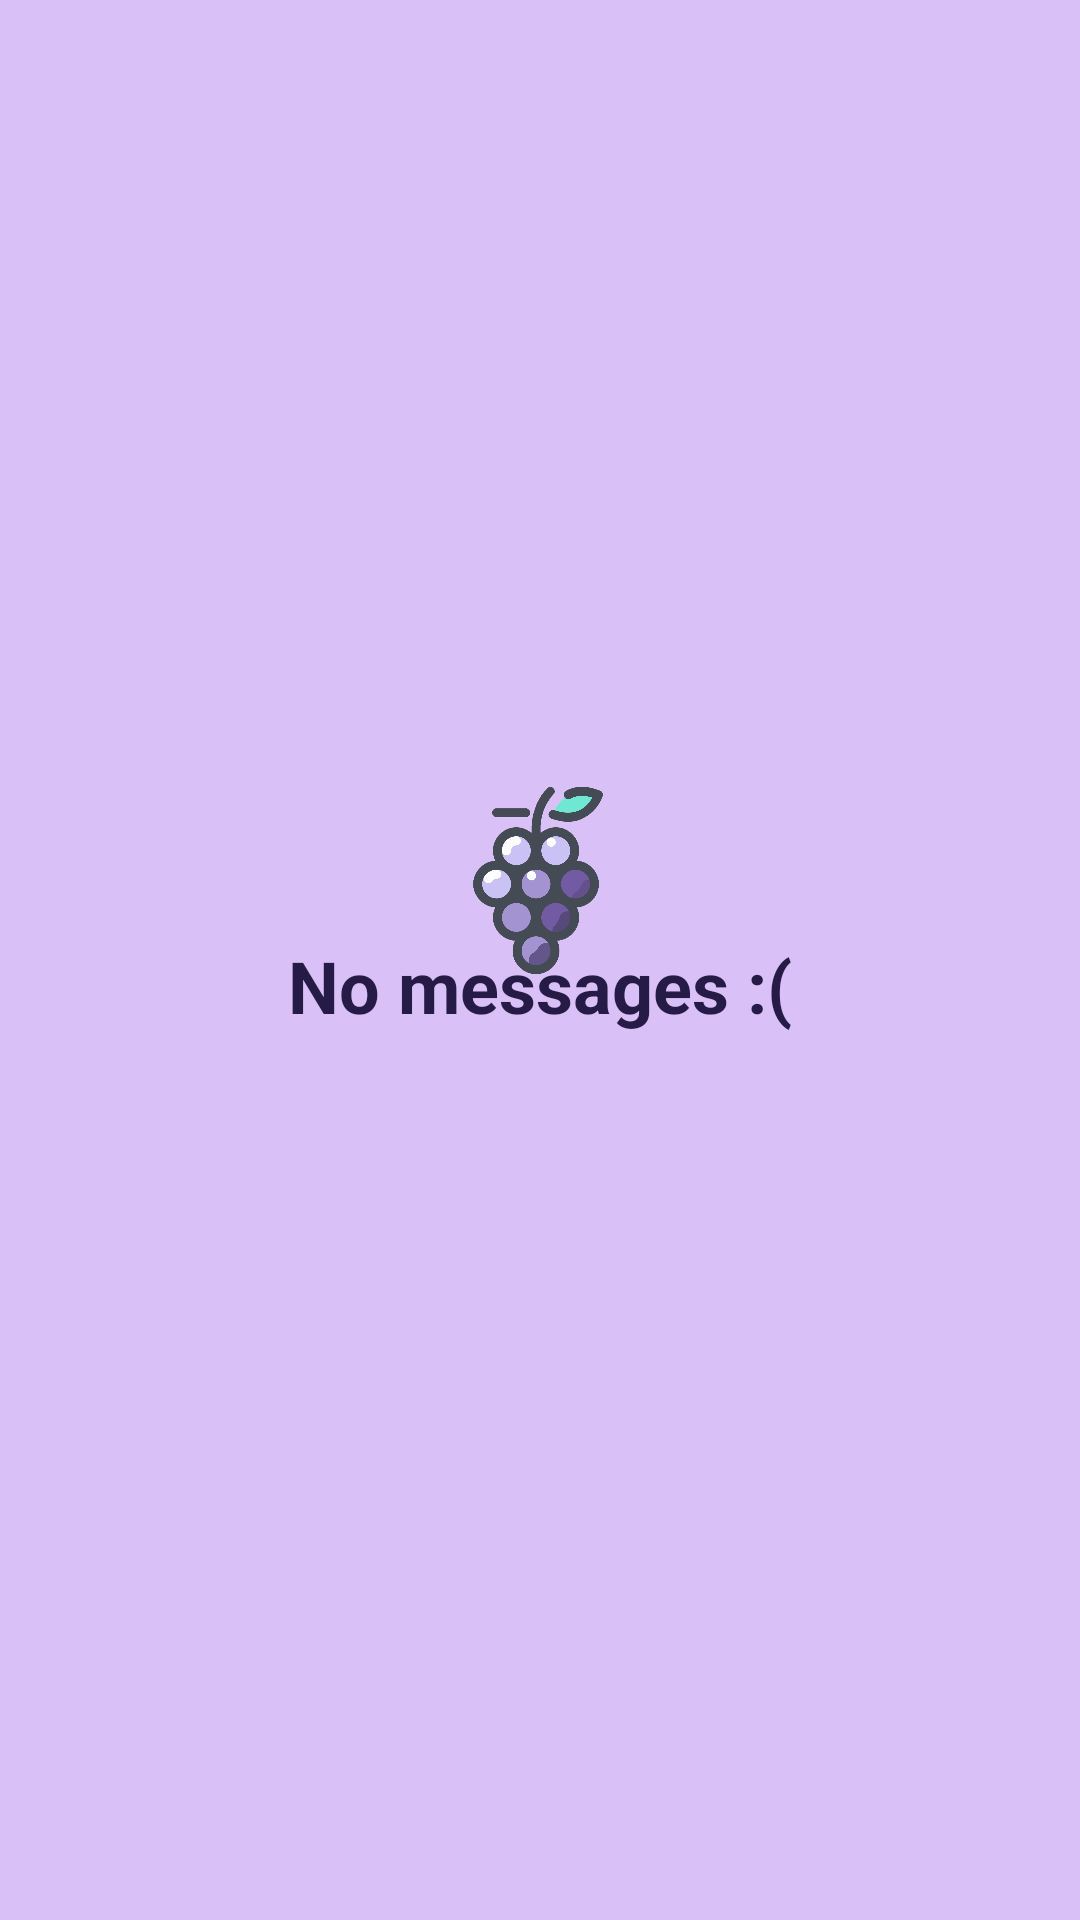

Named icons in this screenshot (1080 × 1920) and their centers, (x=x, y=y):
grape: (x=538, y=880)
